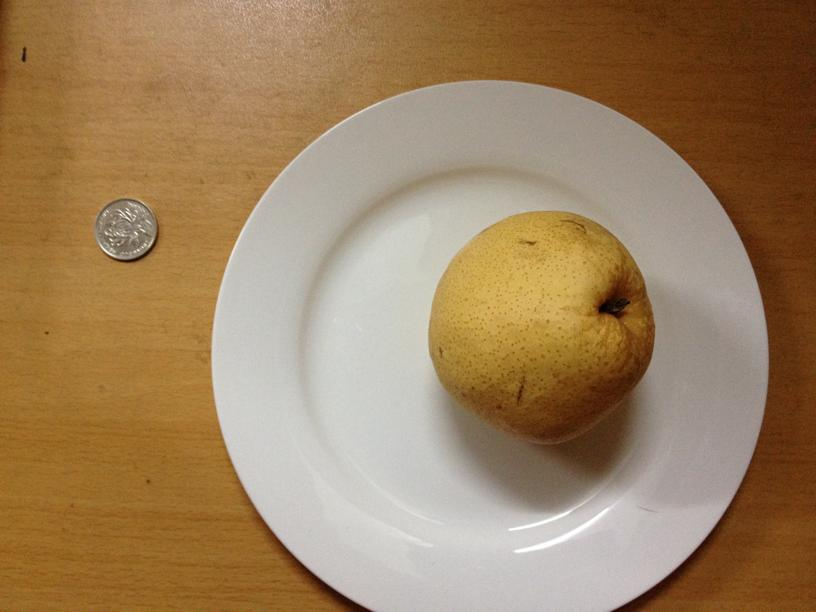coin: (93, 196, 159, 264)
pear: (426, 201, 654, 445)
